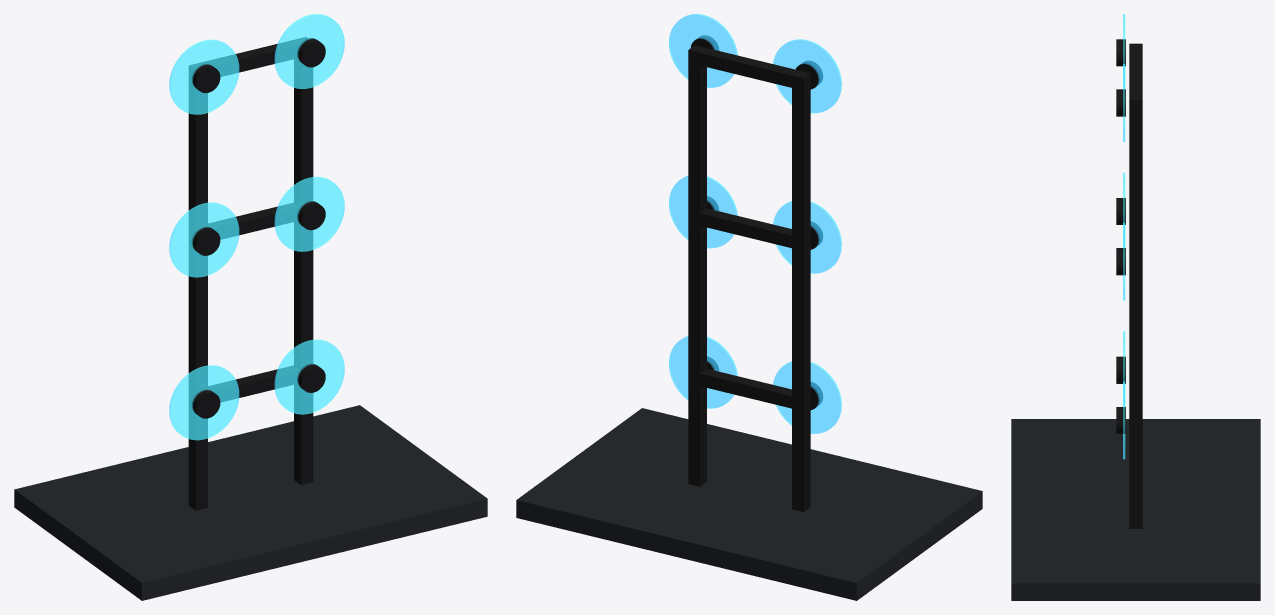
The model's file is hologram-fan.glb.
3 renders of one model, left to right at view 1: azimuth 30°, elevation 25°; view 2: azimuth 150°, elevation 25°; view 3: azimuth 270°, elevation 25°, orthographic. The views are drawn at different scales.
Visible parts, largest first — view 1: hologram-fan; view 2: hologram-fan; view 3: hologram-fan.
Boxes of the visible parts, x1,y1,x2,y2 form: hologram-fan: (14, 14, 487, 600); hologram-fan: (516, 14, 982, 600); hologram-fan: (1011, 14, 1260, 600).
Size of what is drawn, in the model's own units: 1 by 1.35 by 0.64.
